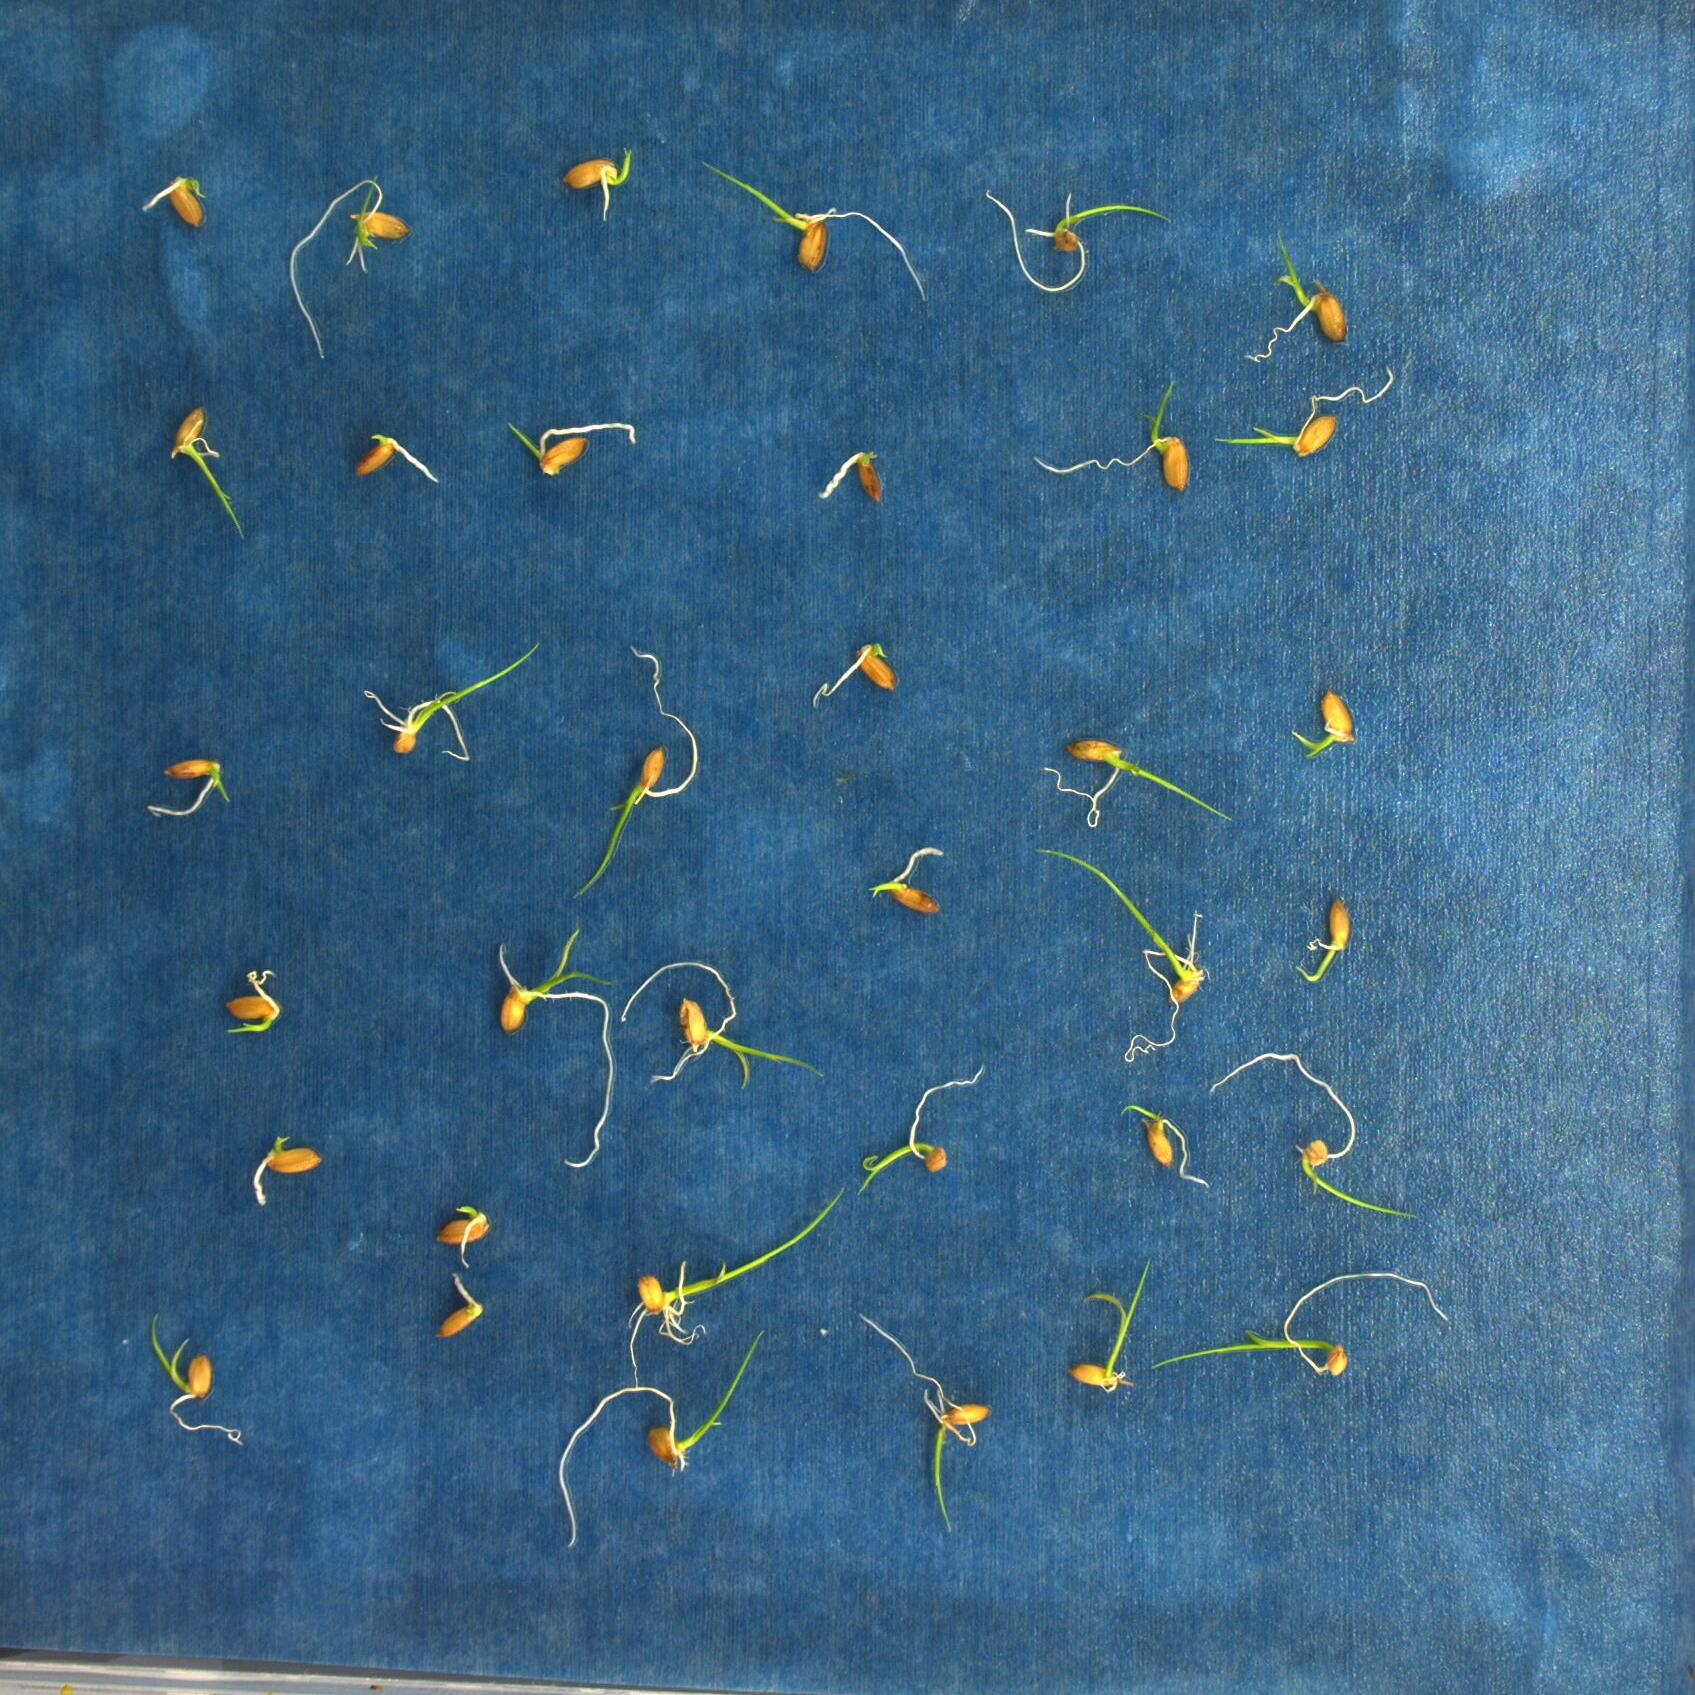not sprout: (806, 638, 899, 714), (823, 438, 891, 512), (432, 1271, 483, 1341)
sprout: (556, 1326, 768, 1549), (627, 1180, 849, 1391), (1031, 841, 1214, 1065), (1205, 1049, 1425, 1225), (694, 157, 938, 309), (570, 641, 705, 903), (1147, 1270, 1454, 1380), (855, 1305, 990, 1537), (490, 927, 618, 1172), (622, 958, 832, 1090), (282, 174, 411, 363), (363, 636, 545, 765), (983, 182, 1177, 296), (1029, 363, 1192, 497), (1211, 362, 1403, 466), (1038, 734, 1239, 830), (858, 1059, 989, 1192), (1240, 230, 1352, 369), (141, 1309, 245, 1450), (1065, 1250, 1156, 1394), (163, 400, 251, 549), (500, 410, 643, 481), (1118, 1101, 1211, 1194), (1295, 889, 1357, 989), (560, 147, 638, 227), (349, 427, 447, 489), (143, 754, 231, 821), (869, 840, 945, 917), (248, 1135, 324, 1209), (1291, 685, 1357, 761), (222, 961, 286, 1038), (432, 1201, 492, 1270), (140, 174, 205, 230)
